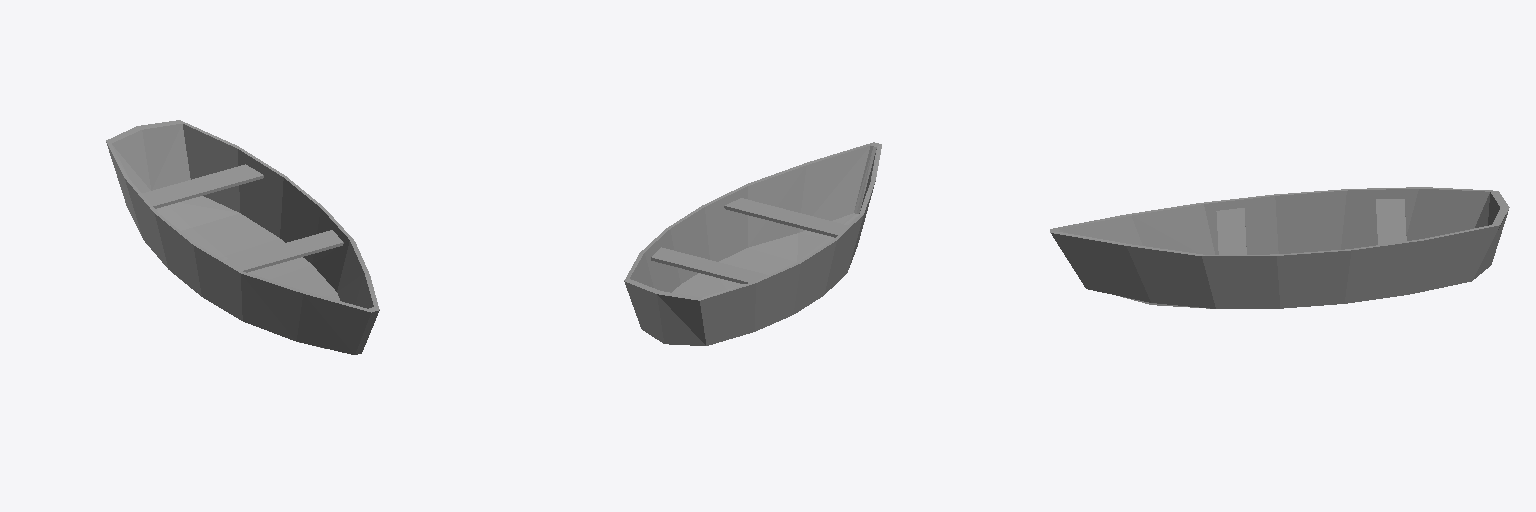
Rendered from boat.obj.
The picture shows the model from 3 angles: view 1: azimuth 30°, elevation 25°; view 2: azimuth 150°, elevation 25°; view 3: azimuth 270°, elevation 25°; orthographic projection.
Visible parts, largest first — view 1: Cube, Cube.001; view 2: Cube, Cube.001; view 3: Cube, Cube.001.
Boxes of the visible parts, x1=… form: Cube: x1=106, y1=120, x2=379, y2=354; Cube.001: x1=142, y1=164, x2=343, y2=272; Cube: x1=624, y1=142, x2=881, y2=345; Cube.001: x1=651, y1=198, x2=847, y2=283; Cube: x1=1050, y1=187, x2=1509, y2=308; Cube.001: x1=1216, y1=199, x2=1406, y2=254.
Bounding box in the file's own units: 4.96 × 3.32 × 14.66.